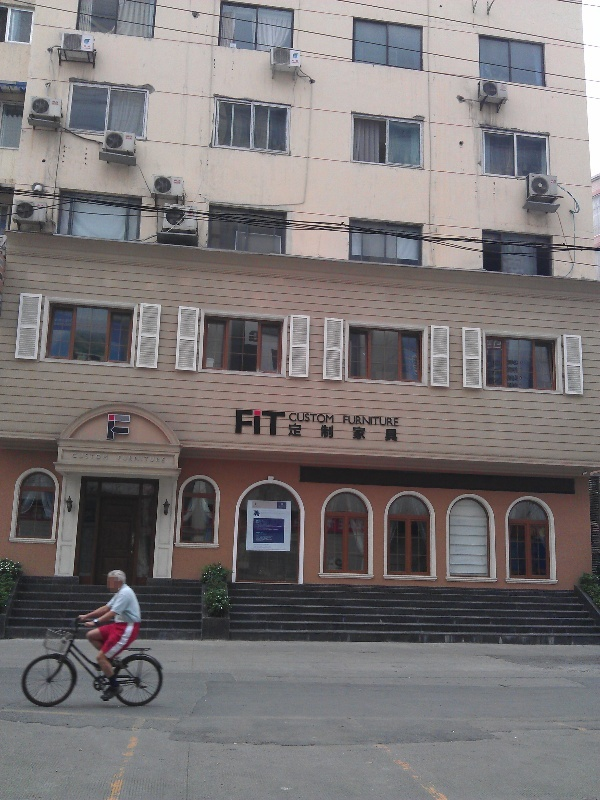text: (113, 413, 128, 442), (241, 408, 256, 437), (257, 408, 272, 437), (273, 408, 287, 437), (289, 423, 304, 442), (305, 423, 320, 442), (321, 423, 336, 442), (337, 423, 352, 442), (353, 423, 368, 442), (369, 423, 384, 442), (385, 423, 399, 442), (385, 414, 401, 428), (353, 414, 368, 428), (369, 414, 384, 428), (289, 412, 304, 424), (305, 412, 320, 424), (321, 412, 336, 424), (343, 414, 352, 428), (81, 452, 96, 460), (129, 455, 144, 463), (145, 455, 160, 463), (236, 408, 240, 437), (97, 452, 109, 460), (109, 413, 112, 442), (118, 455, 128, 463), (129, 413, 131, 442), (73, 452, 80, 460), (161, 455, 166, 463), (257, 510, 261, 517), (254, 510, 256, 517)
